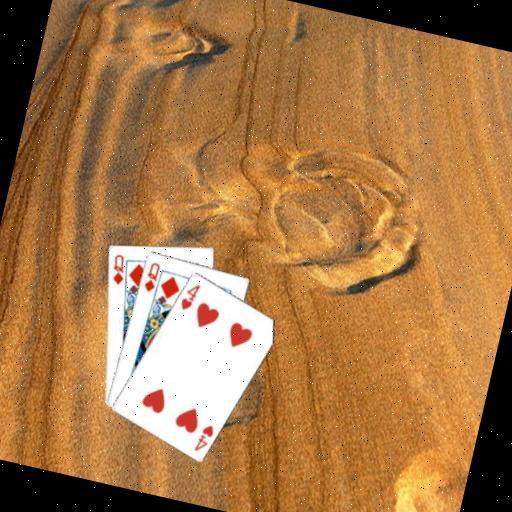4H: (176, 278, 203, 314), (191, 419, 217, 456)
QD: (105, 250, 130, 287), (140, 257, 163, 295)
